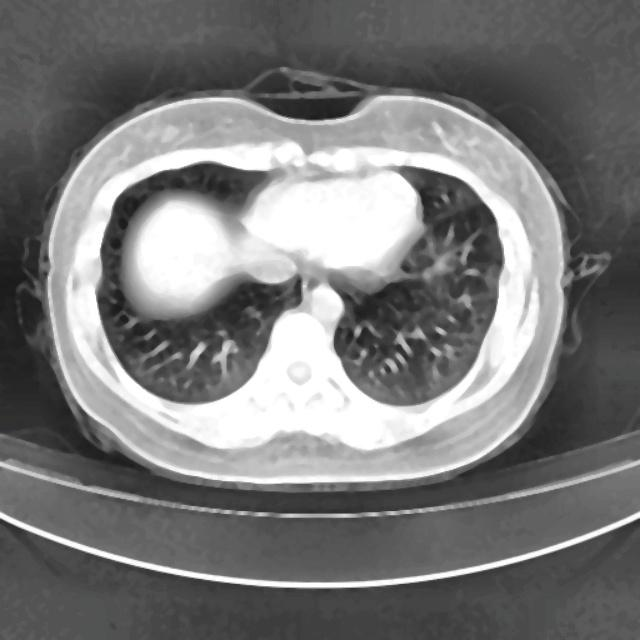covid: (18, 71, 593, 492)
